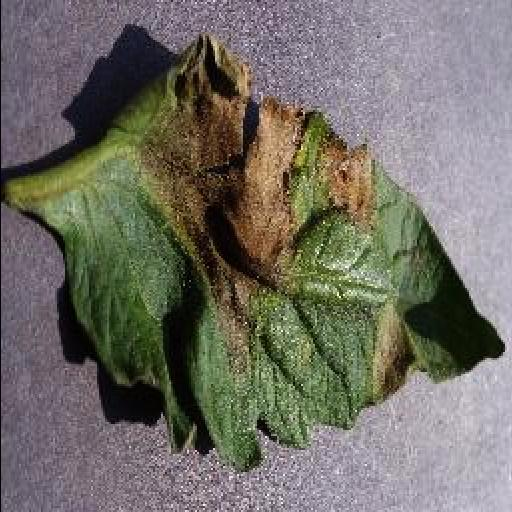disease_tomato: (66, 28, 504, 478)
